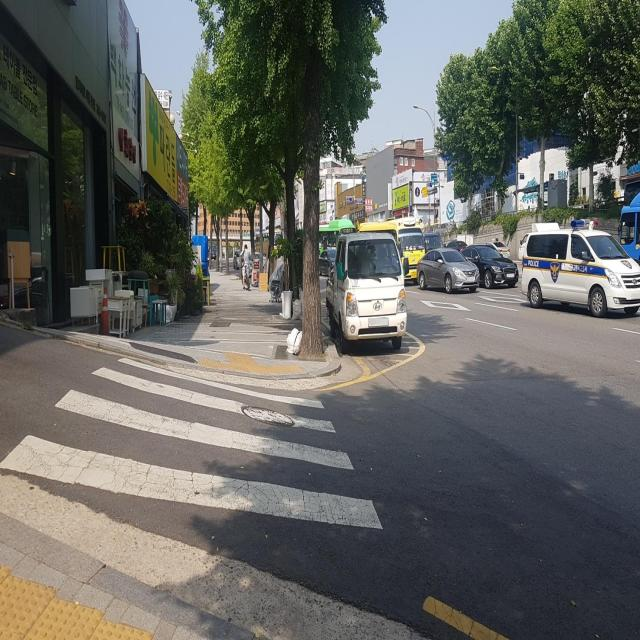횡단보도: (0, 353, 385, 532)
